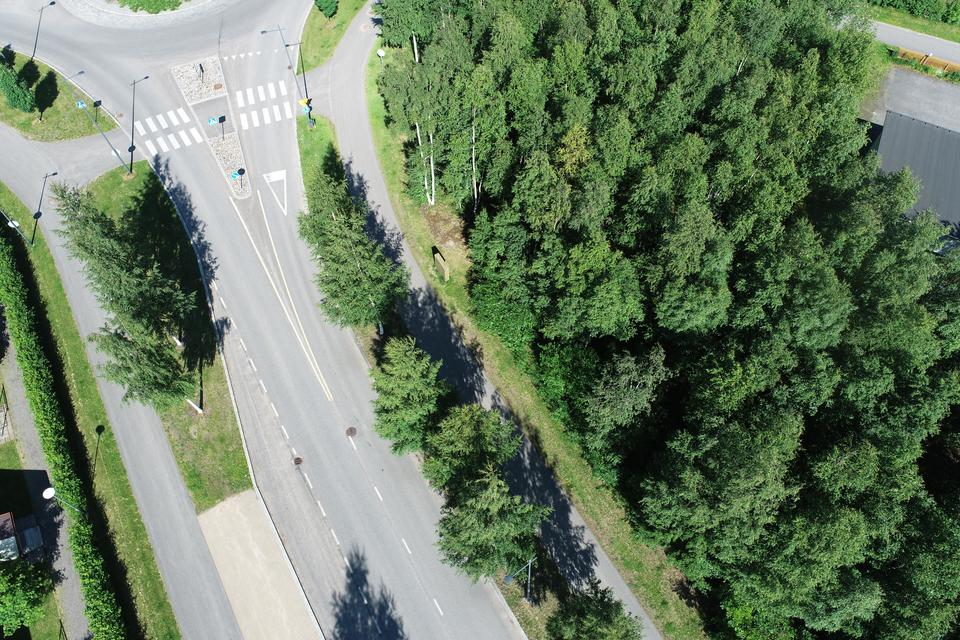intersection: (8, 78, 393, 174)
roundabout: (0, 0, 328, 72)
